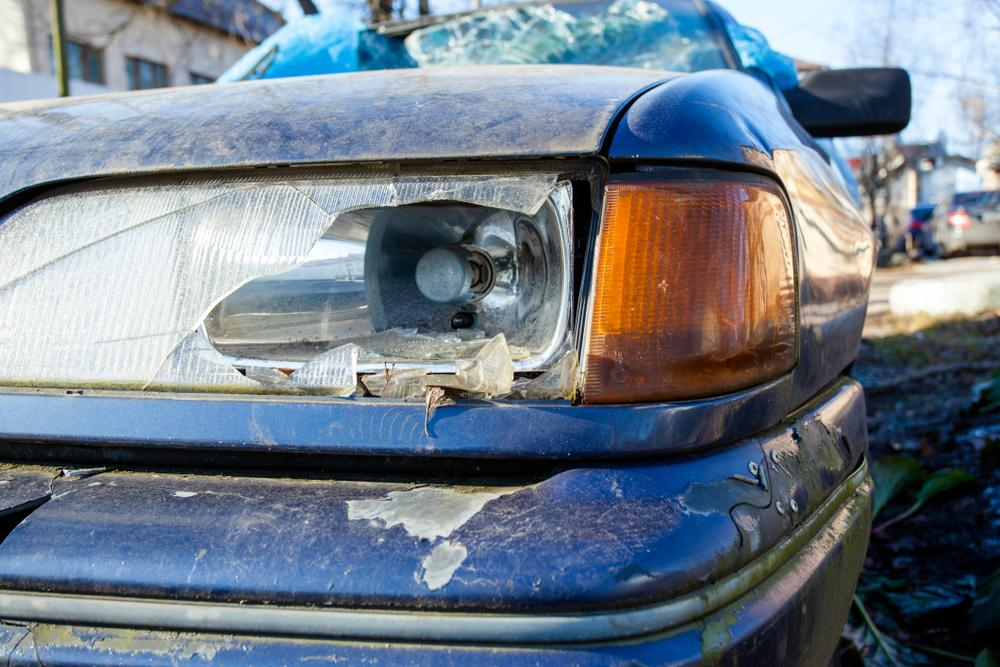crack: (0, 465, 67, 545)
glass shatter: (241, 0, 734, 80)
lamp broken: (0, 163, 594, 398)
